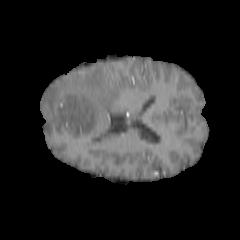glioma: (41, 65, 121, 136)
